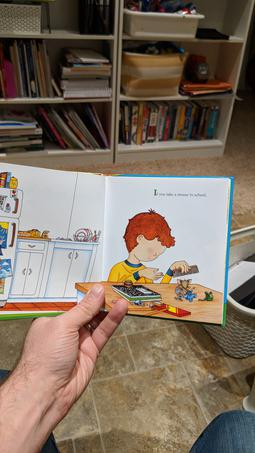text block: (146, 183, 213, 203)
